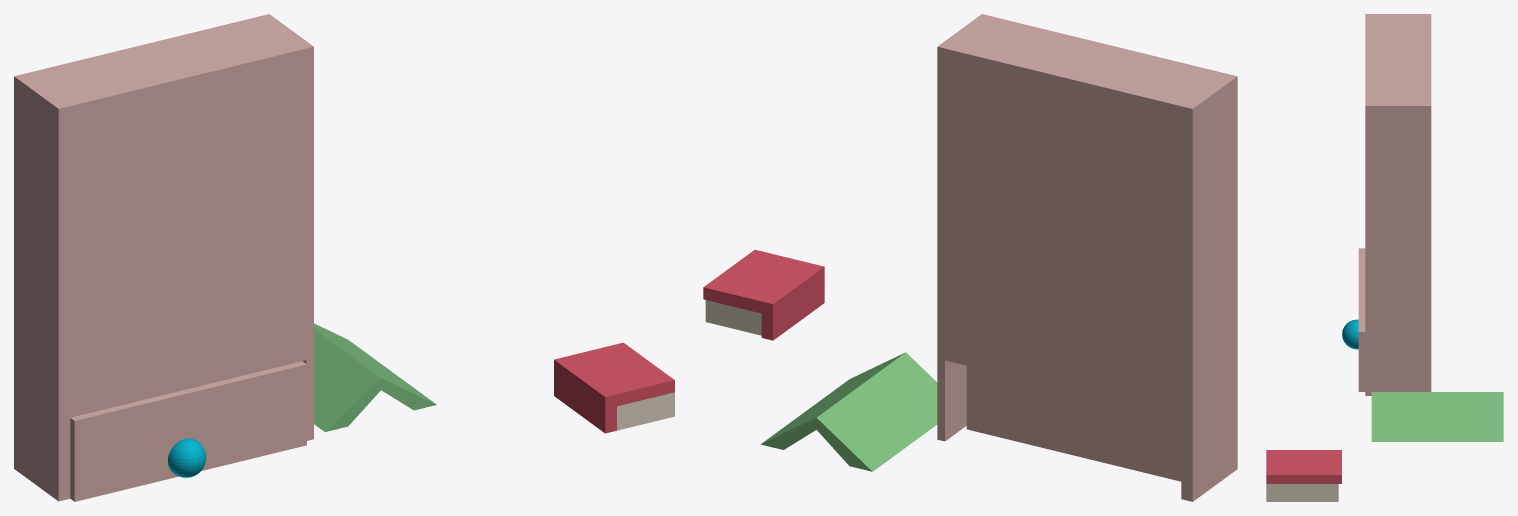
Rendered from project149.glb.
3 views of the same model, side by side, from view 1: azimuth 30°, elevation 25°; view 2: azimuth 150°, elevation 25°; view 3: azimuth 270°, elevation 25° (orthographic). The views are drawn at different scales.
Visible parts, largest first — view 1: Mesh_Mesh_head_geo.001_lambert2SG.001; view 2: Mesh_Mesh_head_geo.001_lambert2SG.001; view 3: Mesh_Mesh_head_geo.001_lambert2SG.001.
Boxes of the visible parts, left/top/right/bottom form: Mesh_Mesh_head_geo.001_lambert2SG.001: left=14, top=14, right=674, bottom=501; Mesh_Mesh_head_geo.001_lambert2SG.001: left=703, top=14, right=1237, bottom=501; Mesh_Mesh_head_geo.001_lambert2SG.001: left=1266, top=14, right=1503, bottom=501.
Size of the model in its own units: 142 by 97 by 72.
